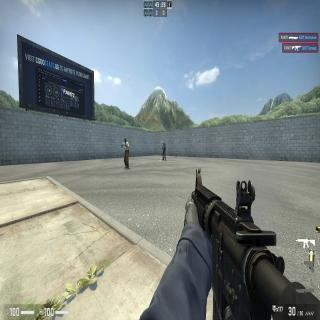CT-Body: (163, 142, 166, 160)
CT-Head: (163, 142, 165, 145)
T-Body: (123, 138, 129, 169)
T-Head: (124, 138, 127, 143)
